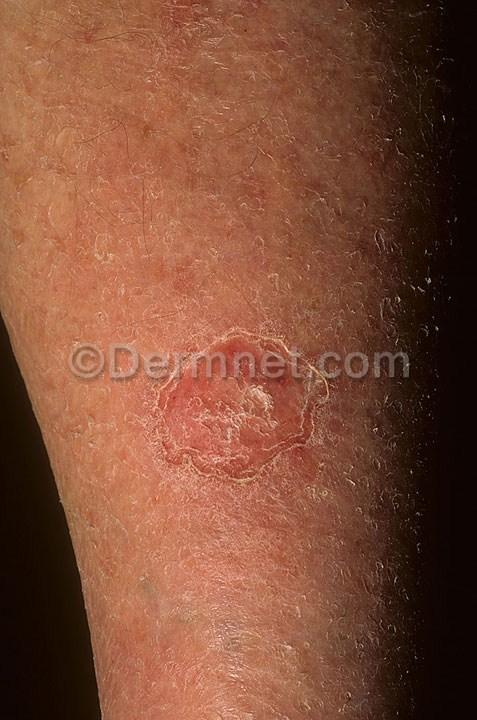Eczema: (106, 286, 372, 512), (196, 516, 313, 599), (94, 591, 186, 683), (149, 0, 245, 73), (136, 104, 213, 193), (139, 231, 217, 313), (252, 617, 323, 699), (364, 139, 425, 221), (281, 51, 344, 129), (217, 158, 282, 230), (44, 71, 110, 139), (57, 216, 123, 279), (56, 492, 123, 554), (54, 0, 117, 57), (0, 152, 55, 188), (8, 211, 37, 271), (31, 365, 74, 401)
